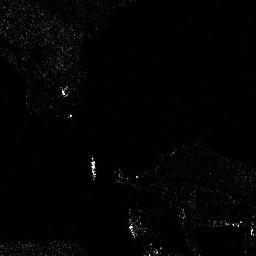ship: (90, 155, 97, 181)
